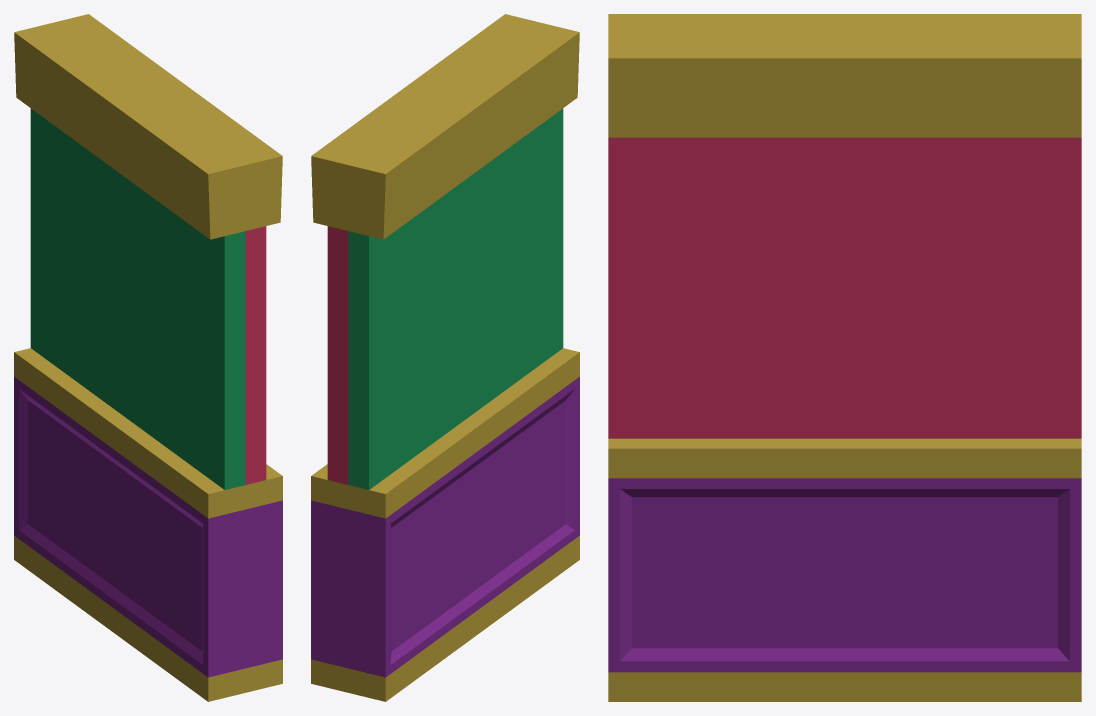
Rendered from Wall2_Unwrapped.FBX.
3 views of the same model, side by side, from view 1: azimuth 30°, elevation 25°; view 2: azimuth 150°, elevation 25°; view 3: azimuth 270°, elevation 25° (orthographic). The views are drawn at different scales.
Parts seen in each view (by area): view 1: Wall2; view 2: Wall2; view 3: Wall2.
Part boxes in pixels (x1=…): Wall2: x1=14, y1=14, x2=282, y2=701; Wall2: x1=311, y1=14, x2=579, y2=701; Wall2: x1=608, y1=14, x2=1081, y2=701.
Size of the model in its own units: 0.7392 by 3.33 by 5.
